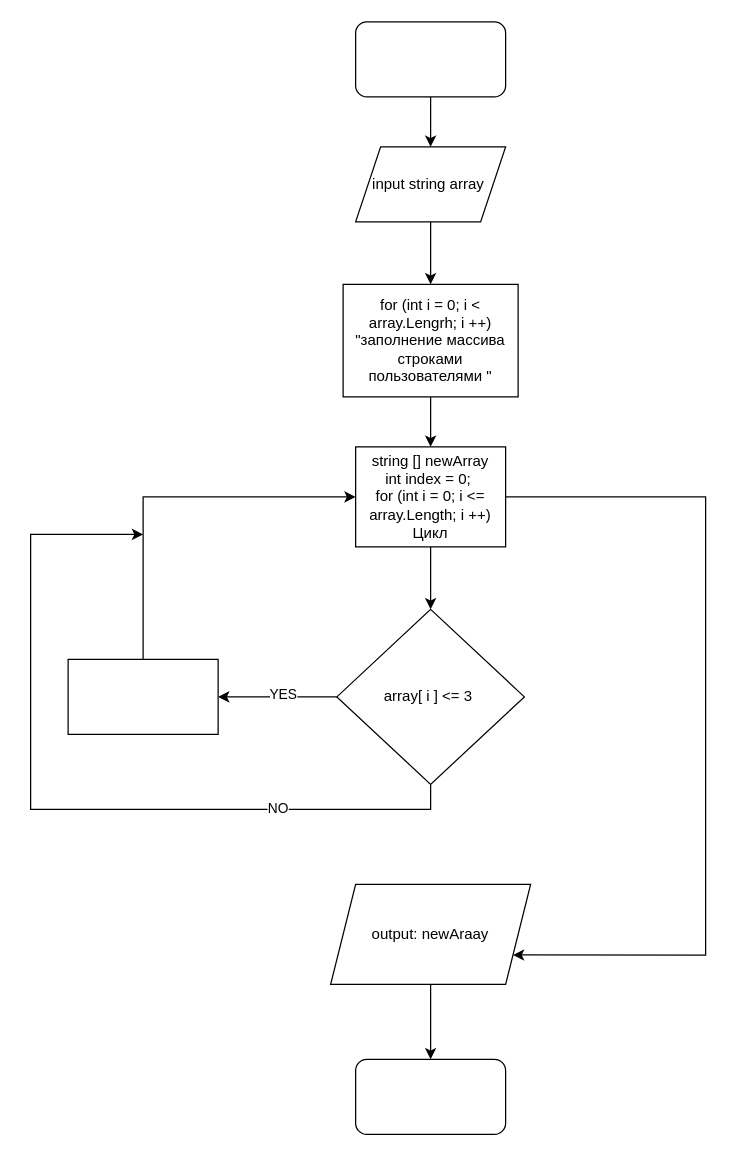
This 738x1156 diagram has some shape labels left out. The centre of each missing label's shape, as x and y in pixels:
finish: the point at 430,1096
newArray[index] = array[i] index ++: the point at 142,696
start: the point at 430,59
